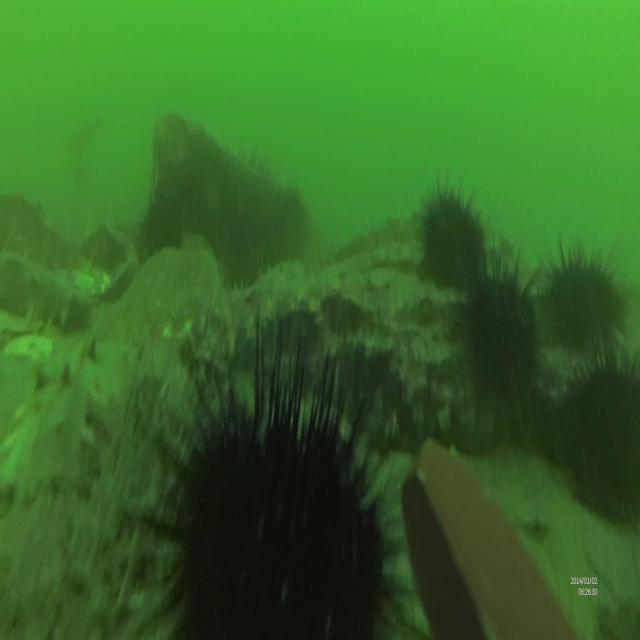echinus: (132, 301, 412, 640), (460, 240, 554, 422), (557, 350, 639, 522), (543, 235, 637, 366), (413, 170, 491, 299)
holothurian: (1, 354, 98, 640), (1, 241, 92, 334), (213, 255, 307, 338)
